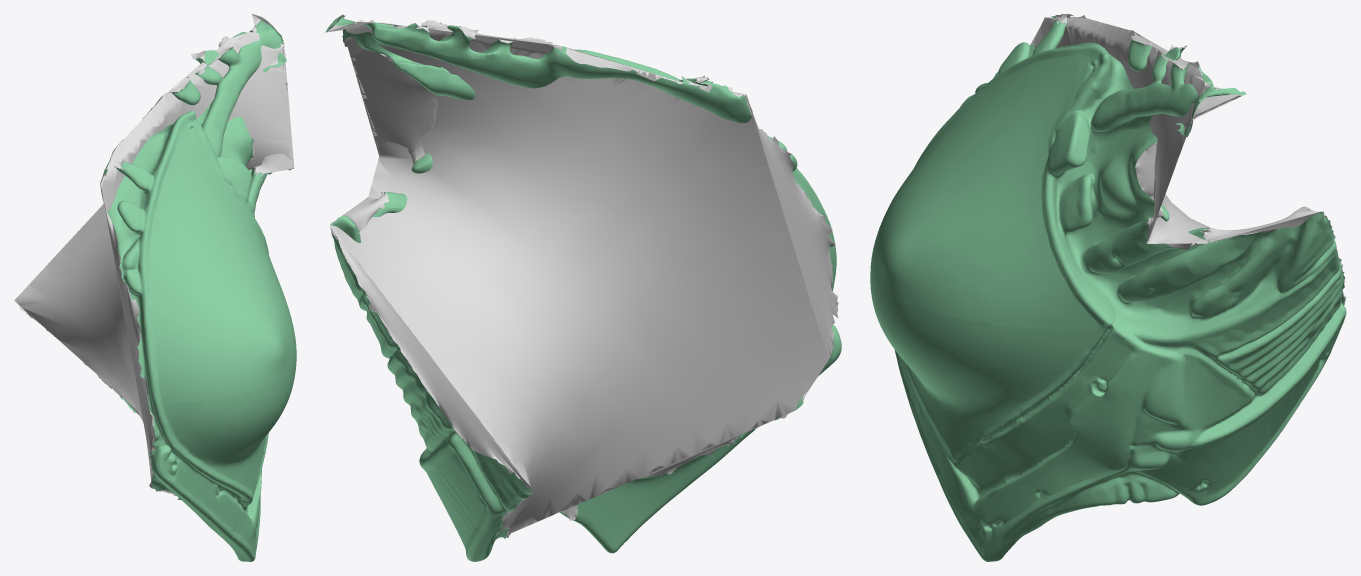
Rendered from Hi3D_Segmented Pastel Female Android 3D Model Asset_part26_20261014_192059.glb.
3 views of the same model, side by side, from view 1: azimuth 30°, elevation 25°; view 2: azimuth 150°, elevation 25°; view 3: azimuth 270°, elevation 25° (orthographic). The views are drawn at different scales.
Parts seen in each view (by area): view 1: Hi3D_Segmented Pastel Female Android 3D Model Asset_part26_2; view 2: Hi3D_Segmented Pastel Female Android 3D Model Asset_part26_2; view 3: Hi3D_Segmented Pastel Female Android 3D Model Asset_part26_2.
Part boxes in pixels (x1,y1,x2,y2): Hi3D_Segmented Pastel Female Android 3D Model Asset_part26_2: (14,14,296,561); Hi3D_Segmented Pastel Female Android 3D Model Asset_part26_2: (325,14,841,561); Hi3D_Segmented Pastel Female Android 3D Model Asset_part26_2: (870,14,1346,561).
Size of the model in its own units: 0.0968 by 0.1593 by 0.1279.
